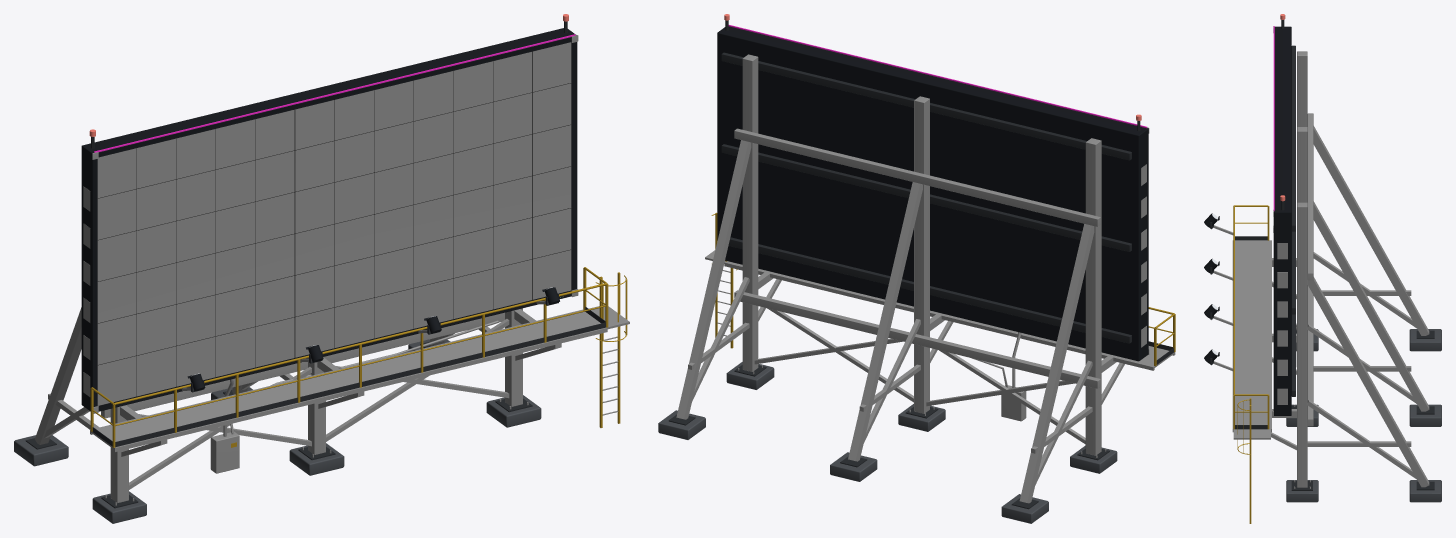
Rendered from Billboard_Rooftop_Rig_12x6.fbx.
3 renders of one model, left to right at view 1: azimuth 30°, elevation 25°; view 2: azimuth 150°, elevation 25°; view 3: azimuth 270°, elevation 25°, orthographic. The views are drawn at different scales.
Visible parts, largest first — view 1: Billboard_Rooftop_Rig_12x6_LOD0; view 2: Billboard_Rooftop_Rig_12x6_LOD0; view 3: Billboard_Rooftop_Rig_12x6_LOD0.
Part boxes in pixels (x1,y1,x2,y2): Billboard_Rooftop_Rig_12x6_LOD0: (14, 14, 629, 523); Billboard_Rooftop_Rig_12x6_LOD0: (658, 14, 1175, 523); Billboard_Rooftop_Rig_12x6_LOD0: (1204, 14, 1441, 523).
Size of what is drawn, in the model's own units: 13.25 by 9.72 by 6.65.
